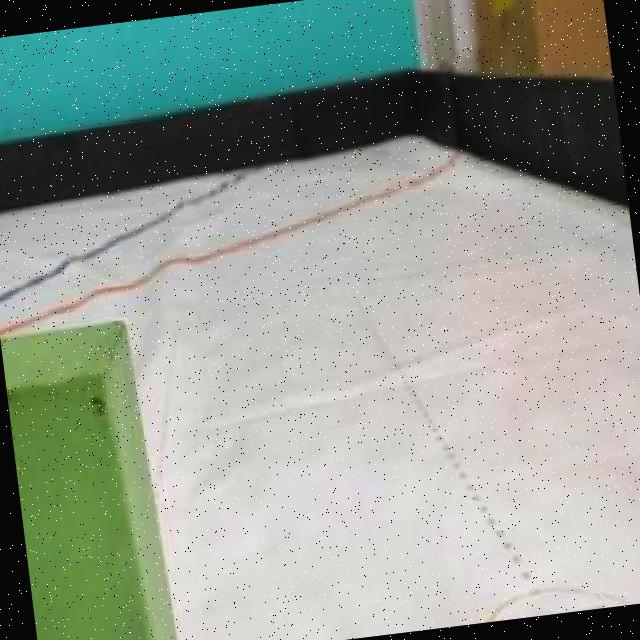greenbox: (0, 313, 182, 640)
